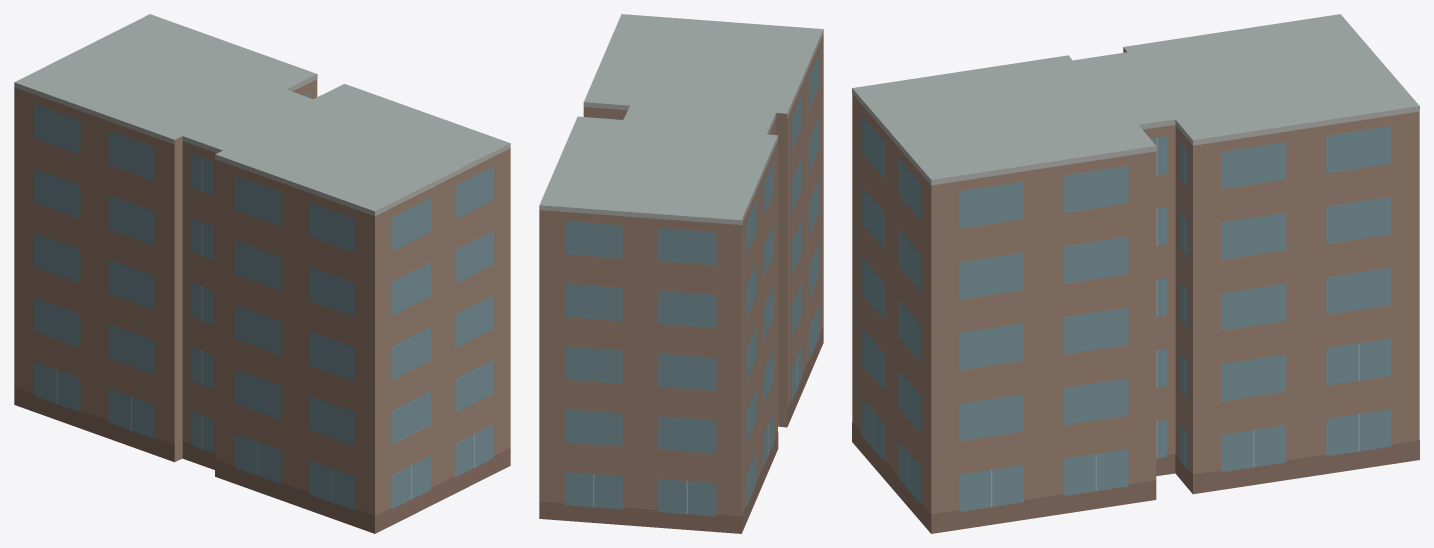
The model's file is survey-upis-32863049.glb.
The picture shows the model from 3 angles, left to right: view 1: azimuth 30°, elevation 25°; view 2: azimuth 150°, elevation 25°; view 3: azimuth 270°, elevation 25°; orthographic projection. The views are drawn at different scales.
Visible parts, largest first — view 1: survey-upis-32863049.tmp; view 2: survey-upis-32863049.tmp; view 3: survey-upis-32863049.tmp.
Part boxes in pixels (x1,y1,x2,y2): survey-upis-32863049.tmp: (14,14,510,533); survey-upis-32863049.tmp: (539,14,823,533); survey-upis-32863049.tmp: (852,14,1419,533).
Bounding box in the file's own units: 16.11 × 16 × 23.27.
